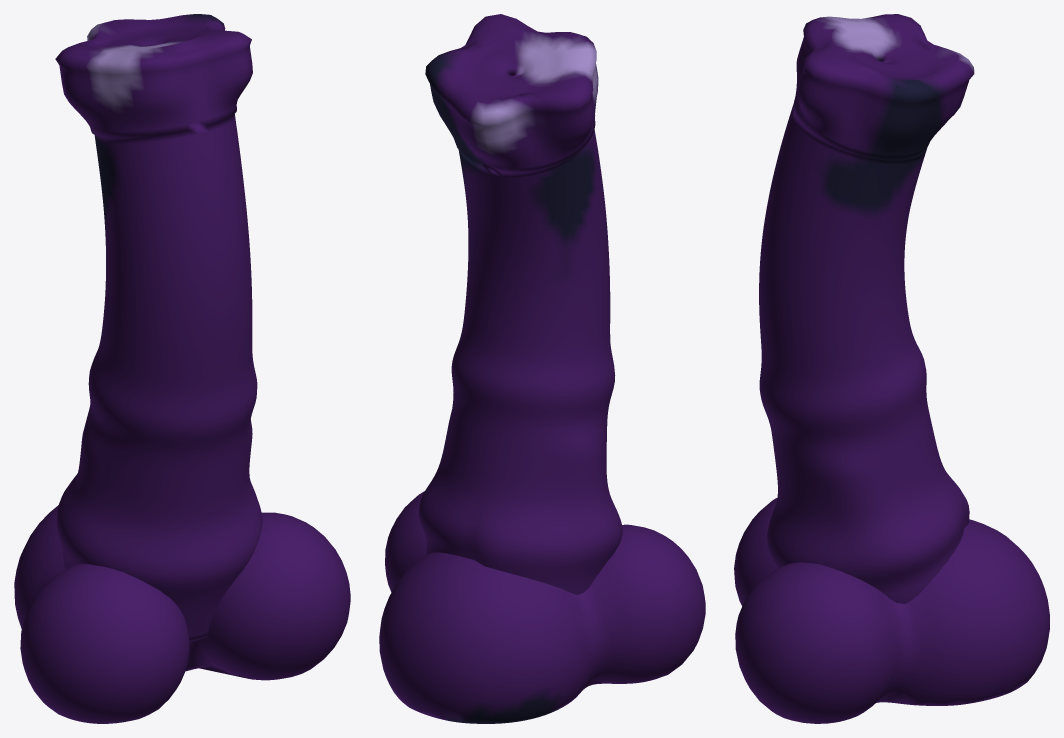
The model's file is knight_purple.glb.
The picture shows the model from 3 angles, left to right: view 1: azimuth 30°, elevation 25°; view 2: azimuth 150°, elevation 25°; view 3: azimuth 270°, elevation 25°; orthographic projection. The views are drawn at different scales.
Visible parts, largest first — view 1: knight; view 2: knight; view 3: knight.
Boxes of the visible parts, x1,y1,x2,y2 form: knight: [14, 14, 350, 723]; knight: [379, 14, 705, 723]; knight: [734, 14, 1049, 723].
Size of the model in its own units: 0.5076 by 1 by 0.4549.
